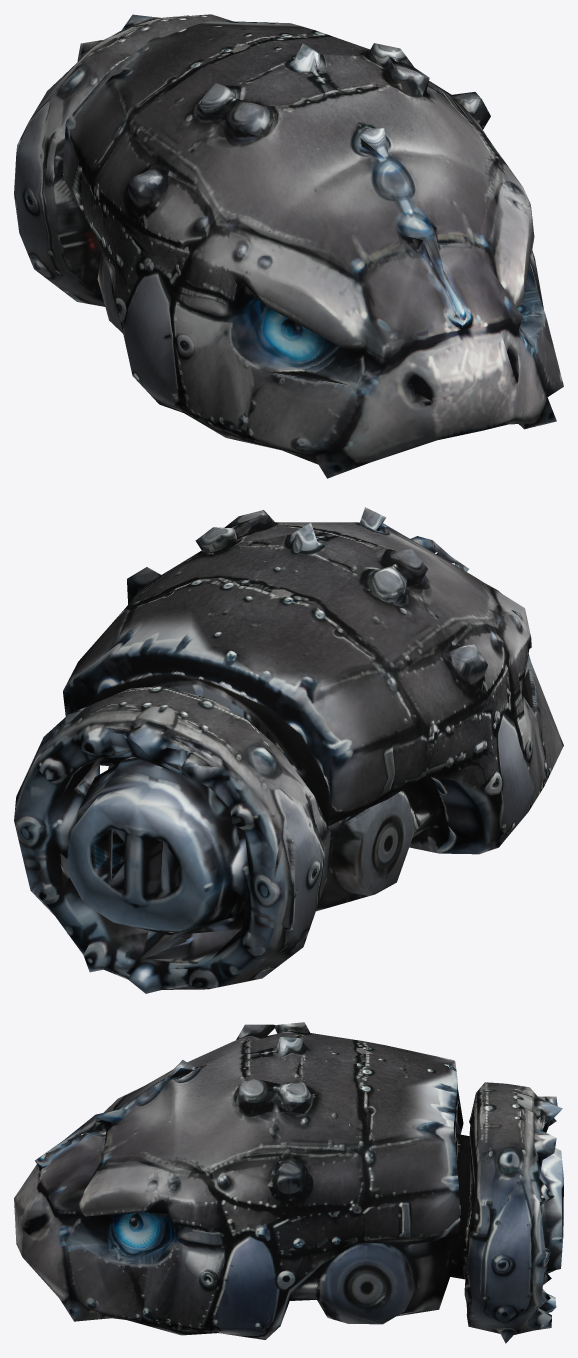
The model's file is TurtleHead1.fbx.
3 views of the same model, one above another, from view 1: azimuth 30°, elevation 25°; view 2: azimuth 150°, elevation 25°; view 3: azimuth 270°, elevation 25° (orthographic). The views are drawn at different scales.
Parts seen in each view (by area): view 1: texture_mapping; view 2: texture_mapping; view 3: texture_mapping.
Part boxes in pixels (<box>): texture_mapping: <box>14,14,563,478</box>; texture_mapping: <box>14,507,563,993</box>; texture_mapping: <box>14,1022,563,1343</box>.
Size of the model in its own units: 0.6438 by 1 by 0.5788.
1 material, 1 textured.
